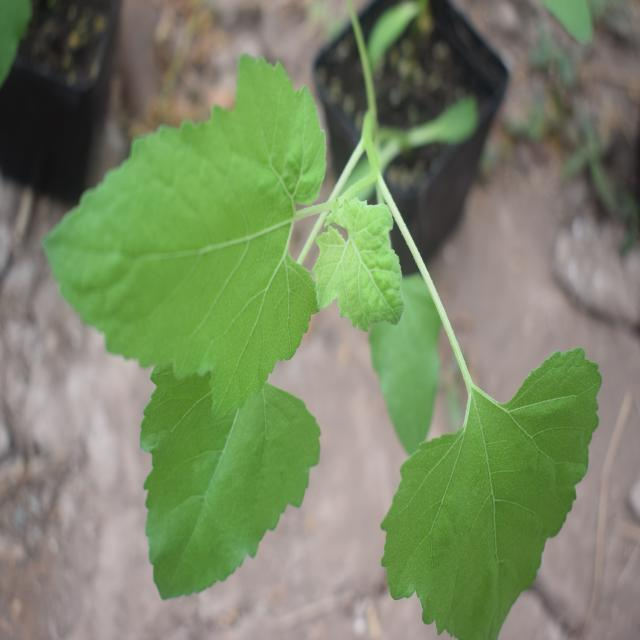cocklebur: (71, 88, 595, 610)
